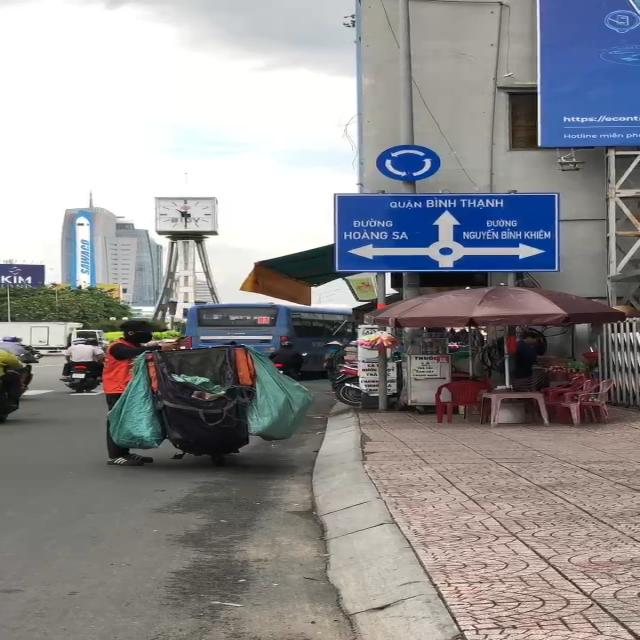Bien bao noi giao nhau chay theo vong xuyen: (372, 142, 448, 182)
